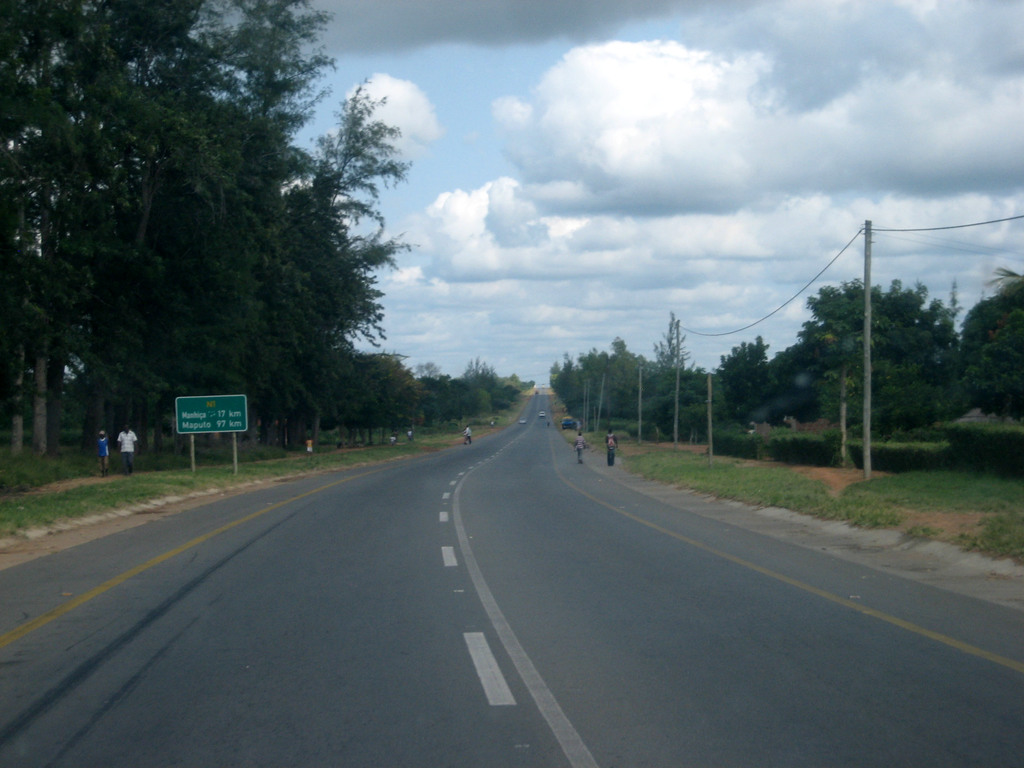Tree: (0, 0, 1023, 457)
